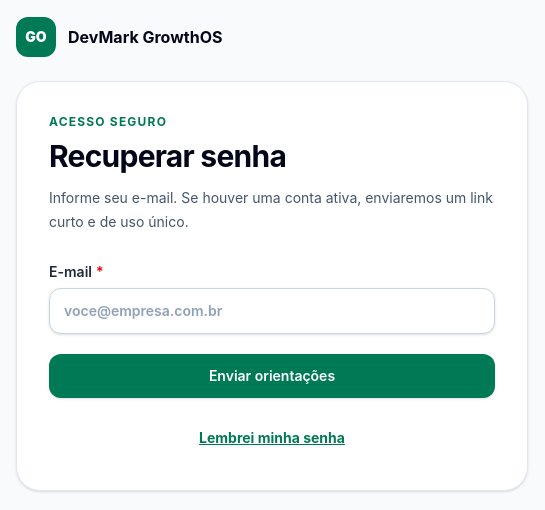
Test case: PasswordRecoveryForm › mostra a mesma resposta genérica mesmo quando a API rejeita
Type "unknown@example.com" into the field labelled "E-mail*" at (272, 311), box x1=49 y1=288 x2=495 y2=334
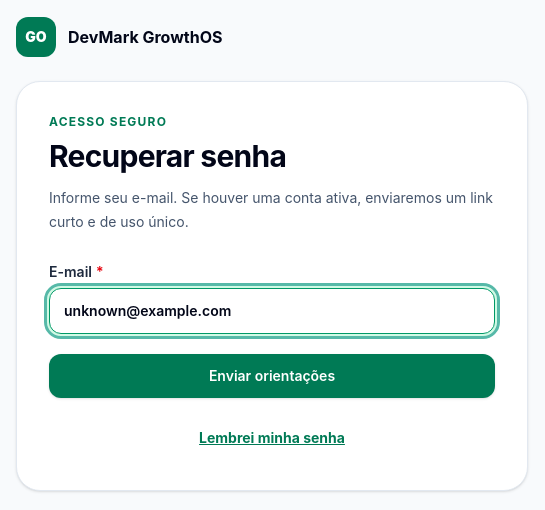
Click the button "Enviar orientações" at (272, 376), box x1=49 y1=354 x2=495 y2=398
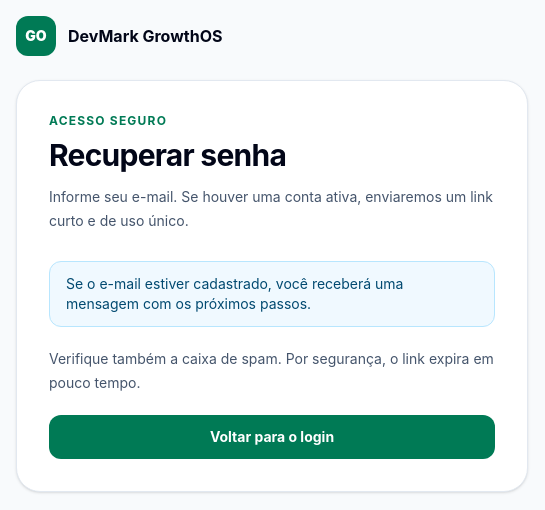
Now the text "Se o e-mail estiver cadastrado, você receberá uma mensagem com os próximos passos." is shown, box x1=66 y1=275 x2=404 y2=312
